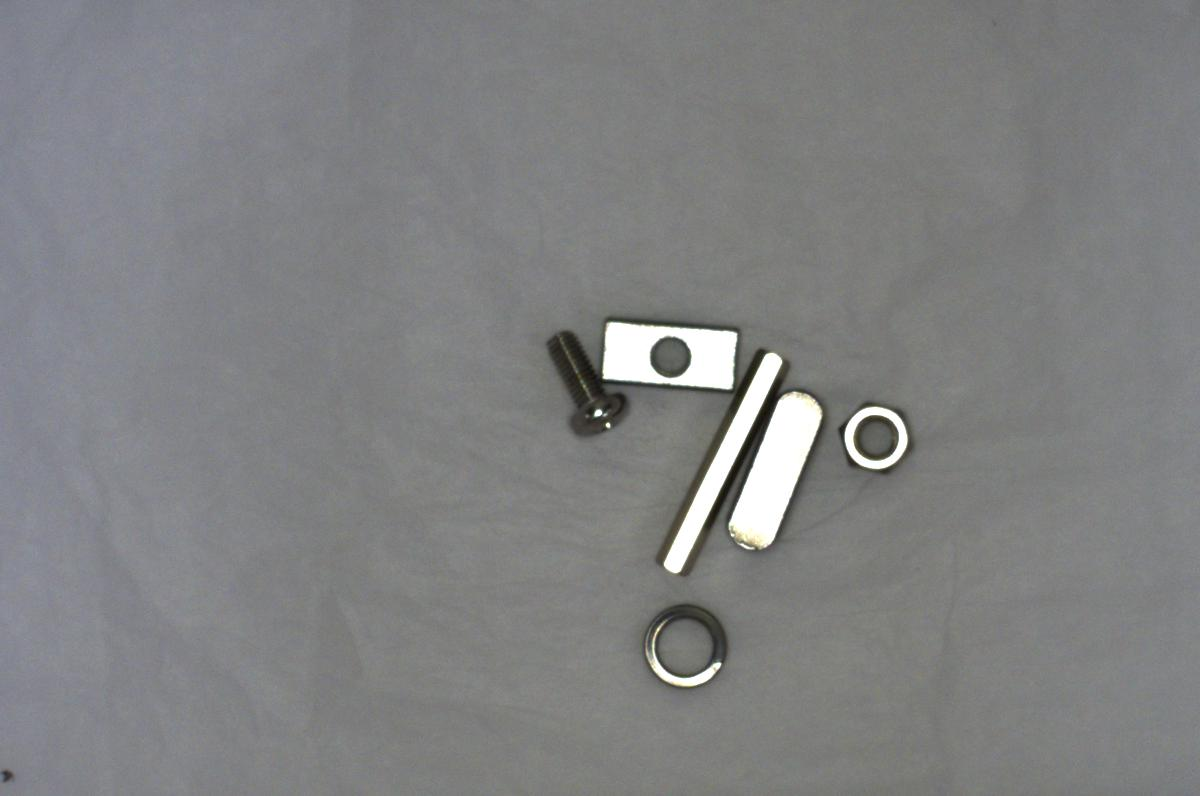Double hexagonal column: (632, 346, 797, 578)
Hexagon nut: (830, 390, 919, 480)
Keybar: (719, 381, 825, 556)
Rectangular nut: (587, 309, 739, 403)
Round head screw: (537, 317, 629, 441)
Spring washer: (630, 596, 743, 704)
